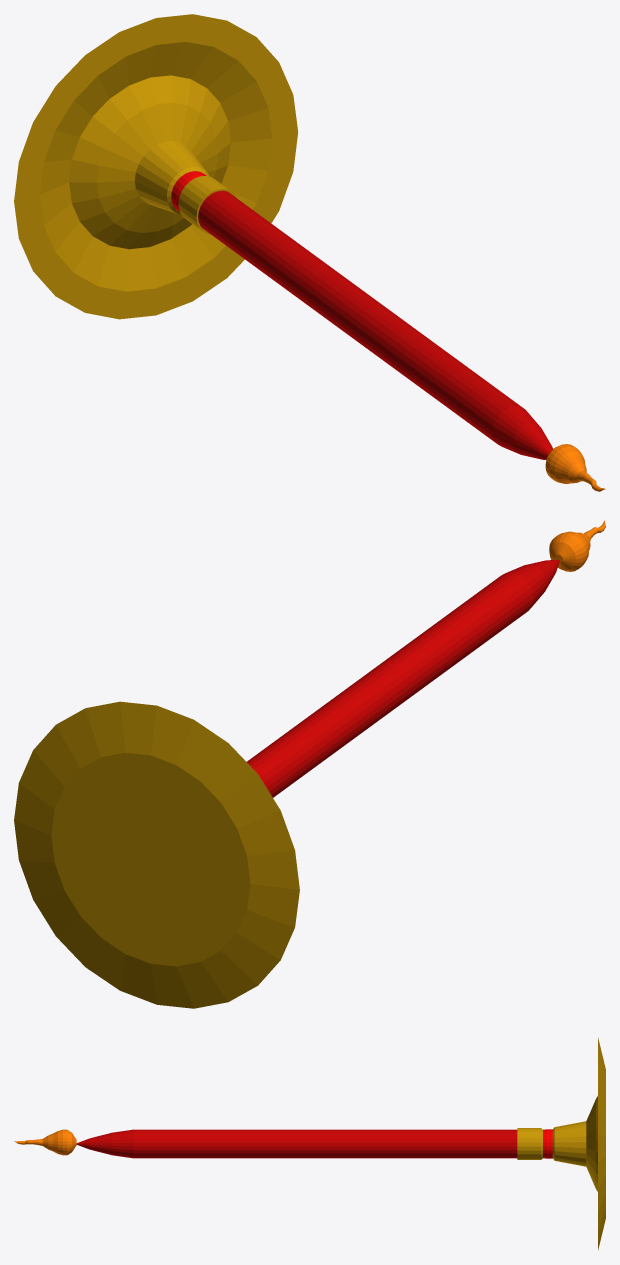
3 views of the same model, one above another, from view 1: azimuth 30°, elevation 25°; view 2: azimuth 150°, elevation 25°; view 3: azimuth 270°, elevation 25° (orthographic). The views are drawn at different scales.
Parts seen in each view (by area): view 1: just a candle and a holder; view 2: just a candle and a holder; view 3: just a candle and a holder.
Part boxes in pixels (x1,y1,x2,y2): just a candle and a holder: [14, 14, 605, 491]; just a candle and a holder: [14, 520, 605, 1008]; just a candle and a holder: [14, 1037, 605, 1250].
Bounding box in the file's own units: 6.8 × 6.8 × 18.8.
